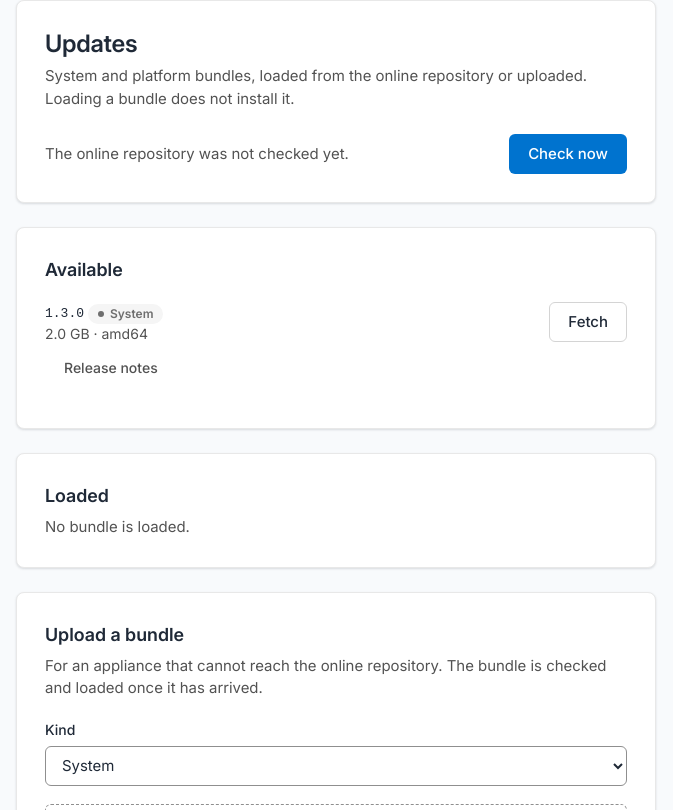
it: UpdatesPage › fetches an available bundle and follows its load
Click the button with aria-label "Fetch 1.3.0": (588, 322) [549,302,627,342]
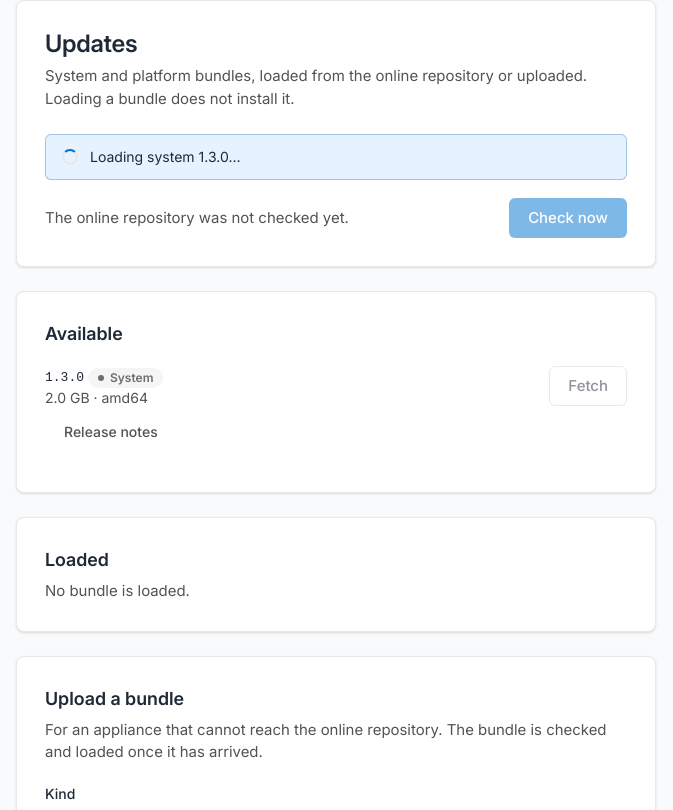
Now the text "Loading system 1.3.0…" is shown, box [90,147,240,167]
Now the button "Check now" is disabled, box [509,198,627,238]
